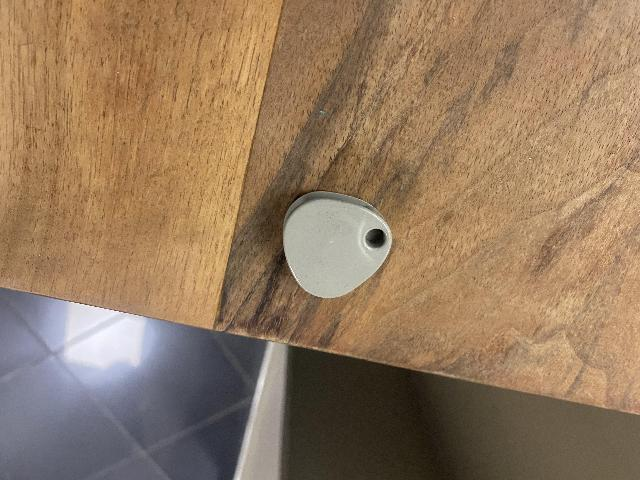Plastik: (283, 194, 397, 298)
